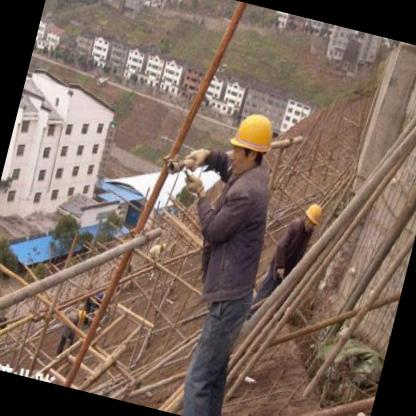bee: (220, 103, 284, 185), (296, 197, 326, 238)
